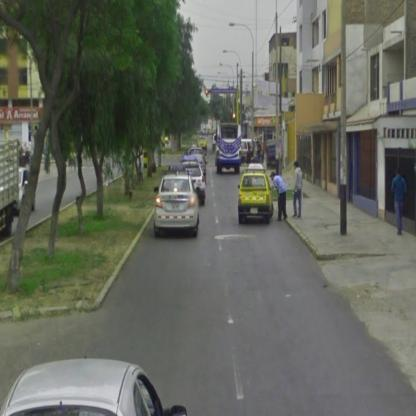Peaton: (391, 171, 408, 235), (272, 170, 288, 223), (294, 163, 304, 220)
Pista: (80, 176, 411, 413), (32, 169, 126, 228)
Vehiculo: (2, 358, 164, 416), (156, 176, 201, 241), (238, 174, 275, 223), (1, 143, 19, 240), (216, 122, 244, 176), (179, 165, 207, 207), (197, 139, 209, 154)
